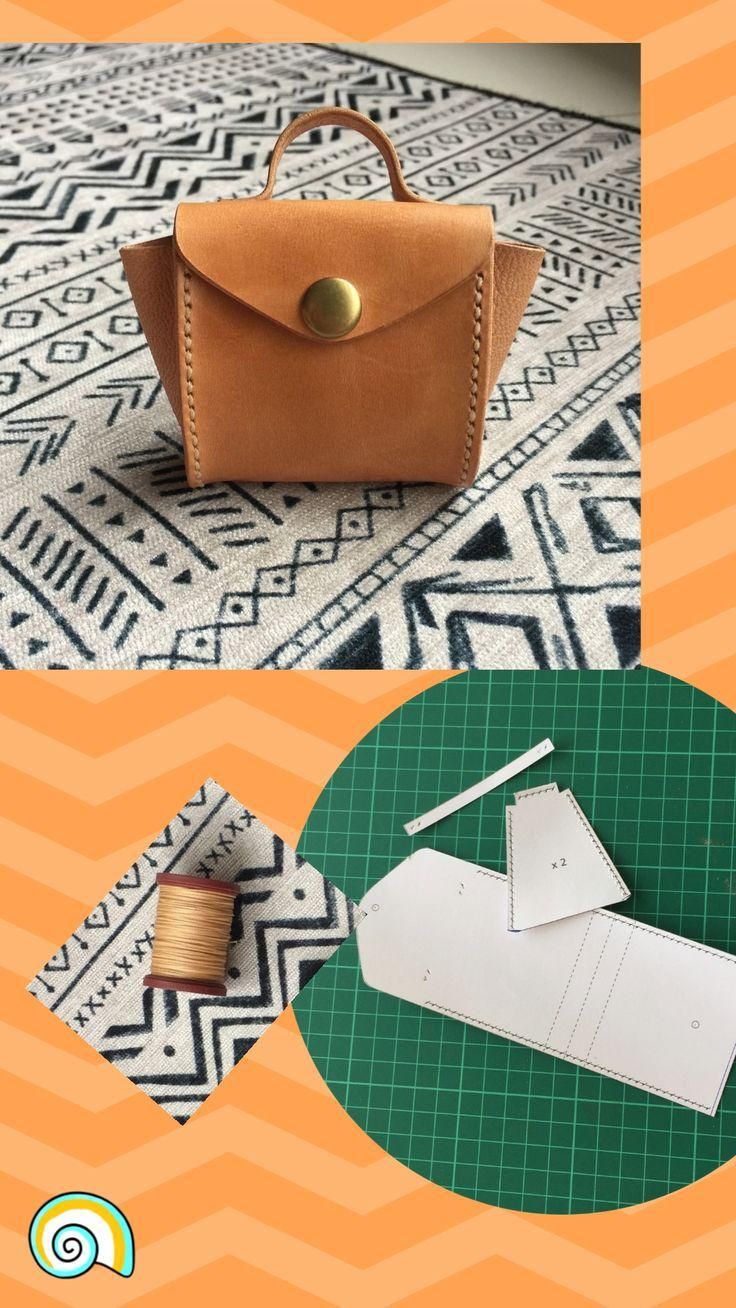cuero: (115, 109, 550, 491)
